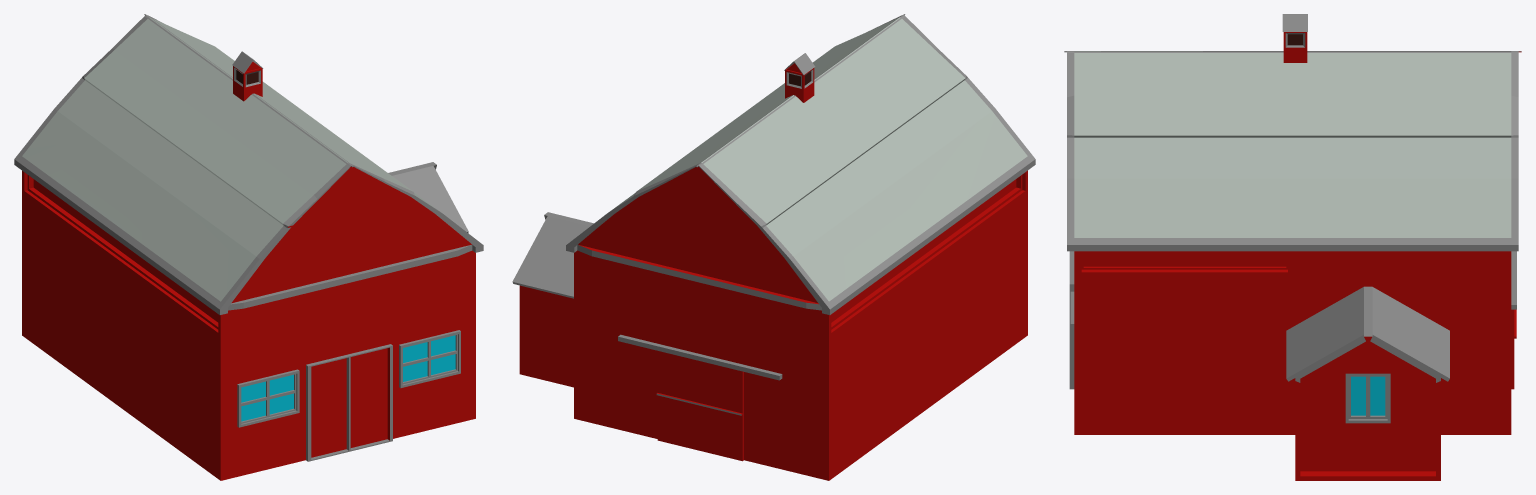
Rendered from Granja.fbx.
3 renders of one model, left to right at view 1: azimuth 30°, elevation 25°; view 2: azimuth 150°, elevation 25°; view 3: azimuth 270°, elevation 25°, orthographic. The views are drawn at different scales.
Visible parts, largest first — view 1: Granja; view 2: Granja; view 3: Granja.
Boxes of the visible parts, bbox=[...] form: Granja: bbox=[14, 14, 483, 480]; Granja: bbox=[512, 14, 1035, 480]; Granja: bbox=[1064, 14, 1521, 480].
Bounding box in the file's own units: 1087 × 945 × 1111.
